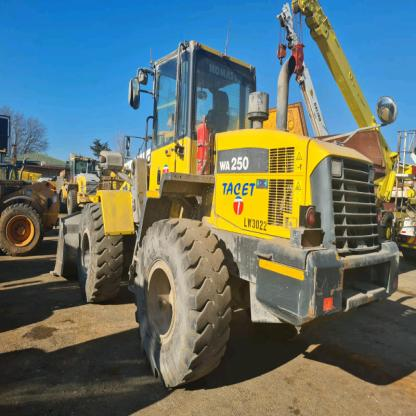bull_dozer/loader/grader: (48, 38, 410, 392)
